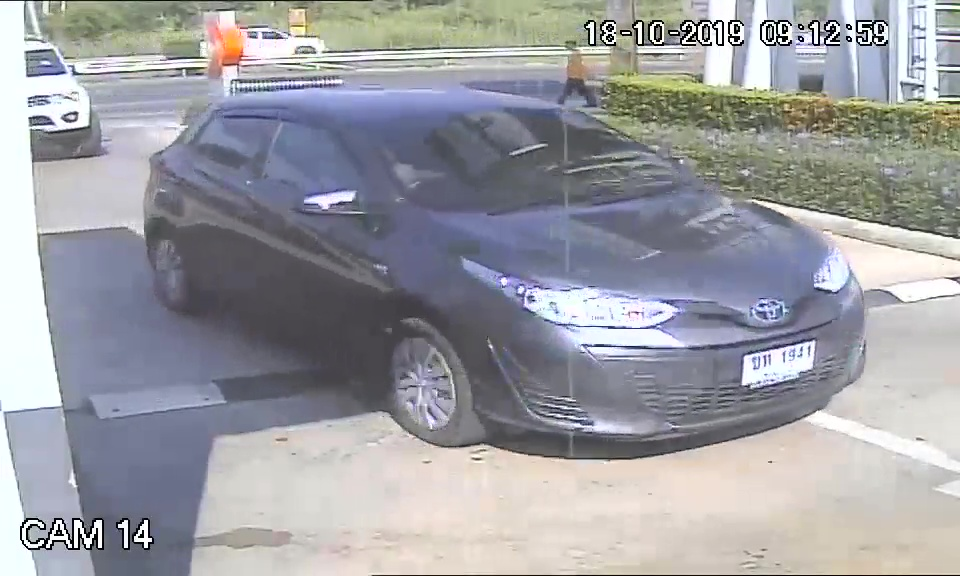sedan: (142, 93, 869, 449)
